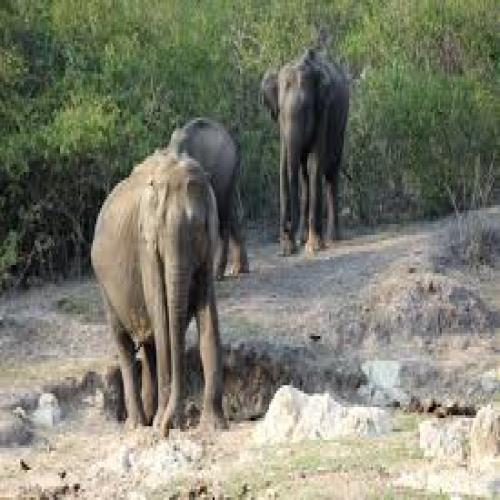asian_elephant-endangered: (89, 147, 229, 435), (261, 49, 351, 256)
